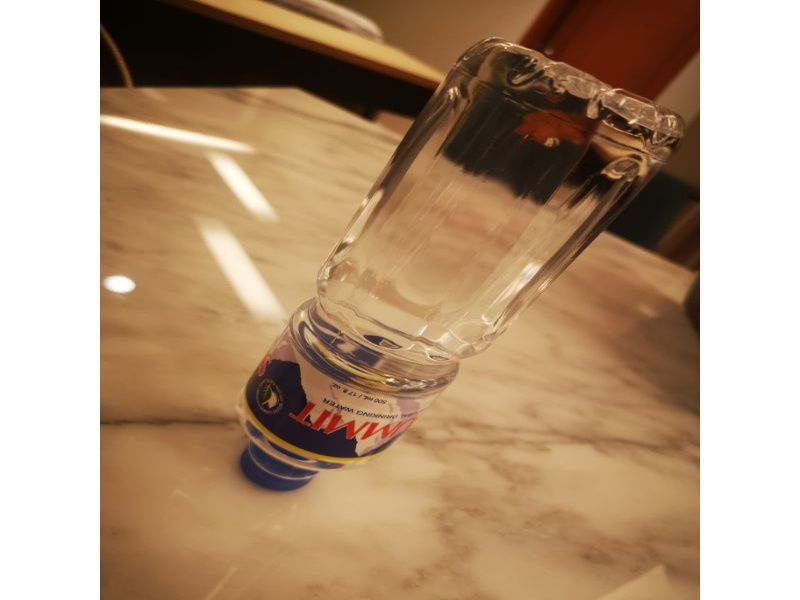PET #1: (232, 31, 687, 496)
